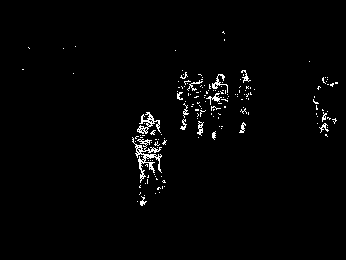person: (132, 109, 166, 208), (208, 69, 229, 142), (314, 72, 334, 138), (174, 67, 193, 133), (235, 69, 252, 136), (191, 72, 208, 138)
